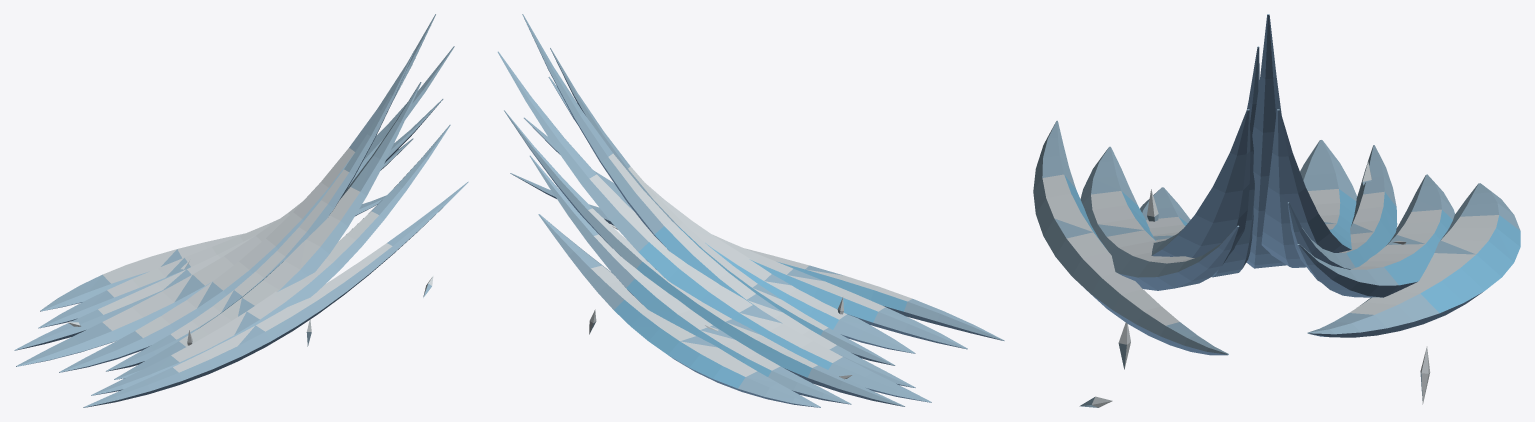
The model's file is Wind_Burst.glb.
3 renders of one model, left to right at view 1: azimuth 30°, elevation 25°; view 2: azimuth 150°, elevation 25°; view 3: azimuth 270°, elevation 25°, orthographic. The views are drawn at different scales.
Parts seen in each view (by area): view 1: Air_Blade_1, Air_Blade_5, Air_Blade_3, Air_Blade_2, Air_Blade_6, Air_Blade_4, Air_Blade_8, Air_Blade_7, Air_Blade_9; view 2: Air_Blade_6, Air_Blade_9, Air_Blade_5, Air_Blade_7, Air_Blade_8, Air_Blade_3, Air_Blade_2, Air_Blade_4, Air_Blade_1; view 3: Air_Blade_9, Air_Blade_1, Air_Blade_6, Air_Blade_2, Air_Blade_8, Air_Blade_3, Air_Blade_7, Air_Blade_5, Air_Blade_4.
Part boxes in pixels (bbox=[...]): Air_Blade_1: bbox=[83, 181, 468, 407]; Air_Blade_5: bbox=[59, 14, 435, 372]; Air_Blade_3: bbox=[114, 82, 421, 379]; Air_Blade_2: bbox=[91, 124, 450, 395]; Air_Blade_6: bbox=[16, 46, 454, 366]; Air_Blade_4: bbox=[106, 50, 414, 371]; Air_Blade_8: bbox=[38, 138, 413, 328]; Air_Blade_7: bbox=[14, 99, 443, 350]; Air_Blade_9: bbox=[40, 195, 386, 311]; Air_Blade_6: bbox=[497, 51, 931, 402]; Air_Blade_9: bbox=[538, 214, 820, 407]; Air_Blade_5: bbox=[522, 14, 915, 387]; Air_Blade_7: bbox=[504, 110, 904, 406]; Air_Blade_8: bbox=[529, 155, 851, 404]; Air_Blade_3: bbox=[548, 77, 915, 353]; Air_Blade_2: bbox=[524, 117, 967, 349]; Air_Blade_4: bbox=[550, 48, 895, 365]; Air_Blade_1: bbox=[510, 173, 1004, 340]; Air_Blade_9: bbox=[1307, 183, 1520, 337]; Air_Blade_1: bbox=[1033, 120, 1228, 355]; Air_Blade_6: bbox=[1261, 109, 1357, 267]; Air_Blade_2: bbox=[1080, 146, 1239, 290]; Air_Blade_8: bbox=[1297, 174, 1454, 297]; Air_Blade_3: bbox=[1140, 109, 1250, 257]; Air_Blade_7: bbox=[1287, 145, 1397, 281]; Air_Blade_5: bbox=[1246, 14, 1286, 268]; Air_Blade_4: bbox=[1212, 46, 1259, 277].
Size of the model in its own units: 5.43 by 3.23 by 2.77.
